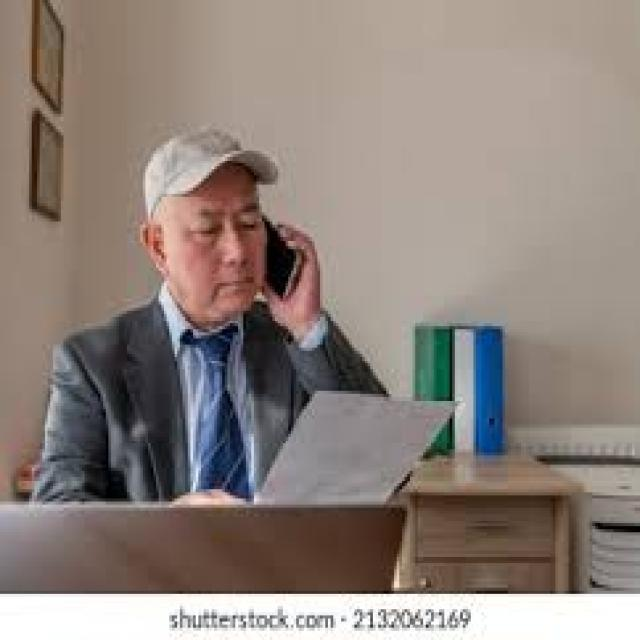cap: (130, 114, 290, 216)
